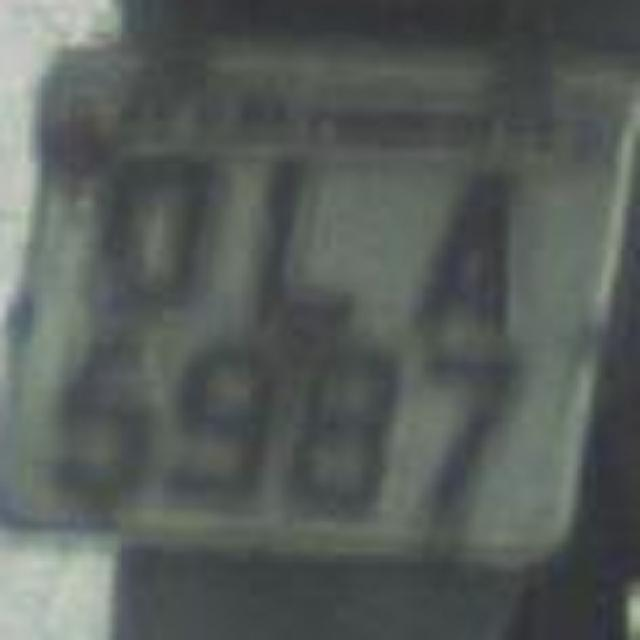6: (24, 316, 171, 529)
7: (395, 336, 540, 529)
8: (285, 328, 420, 524)
9: (152, 325, 288, 520)
J: (232, 152, 372, 332)
